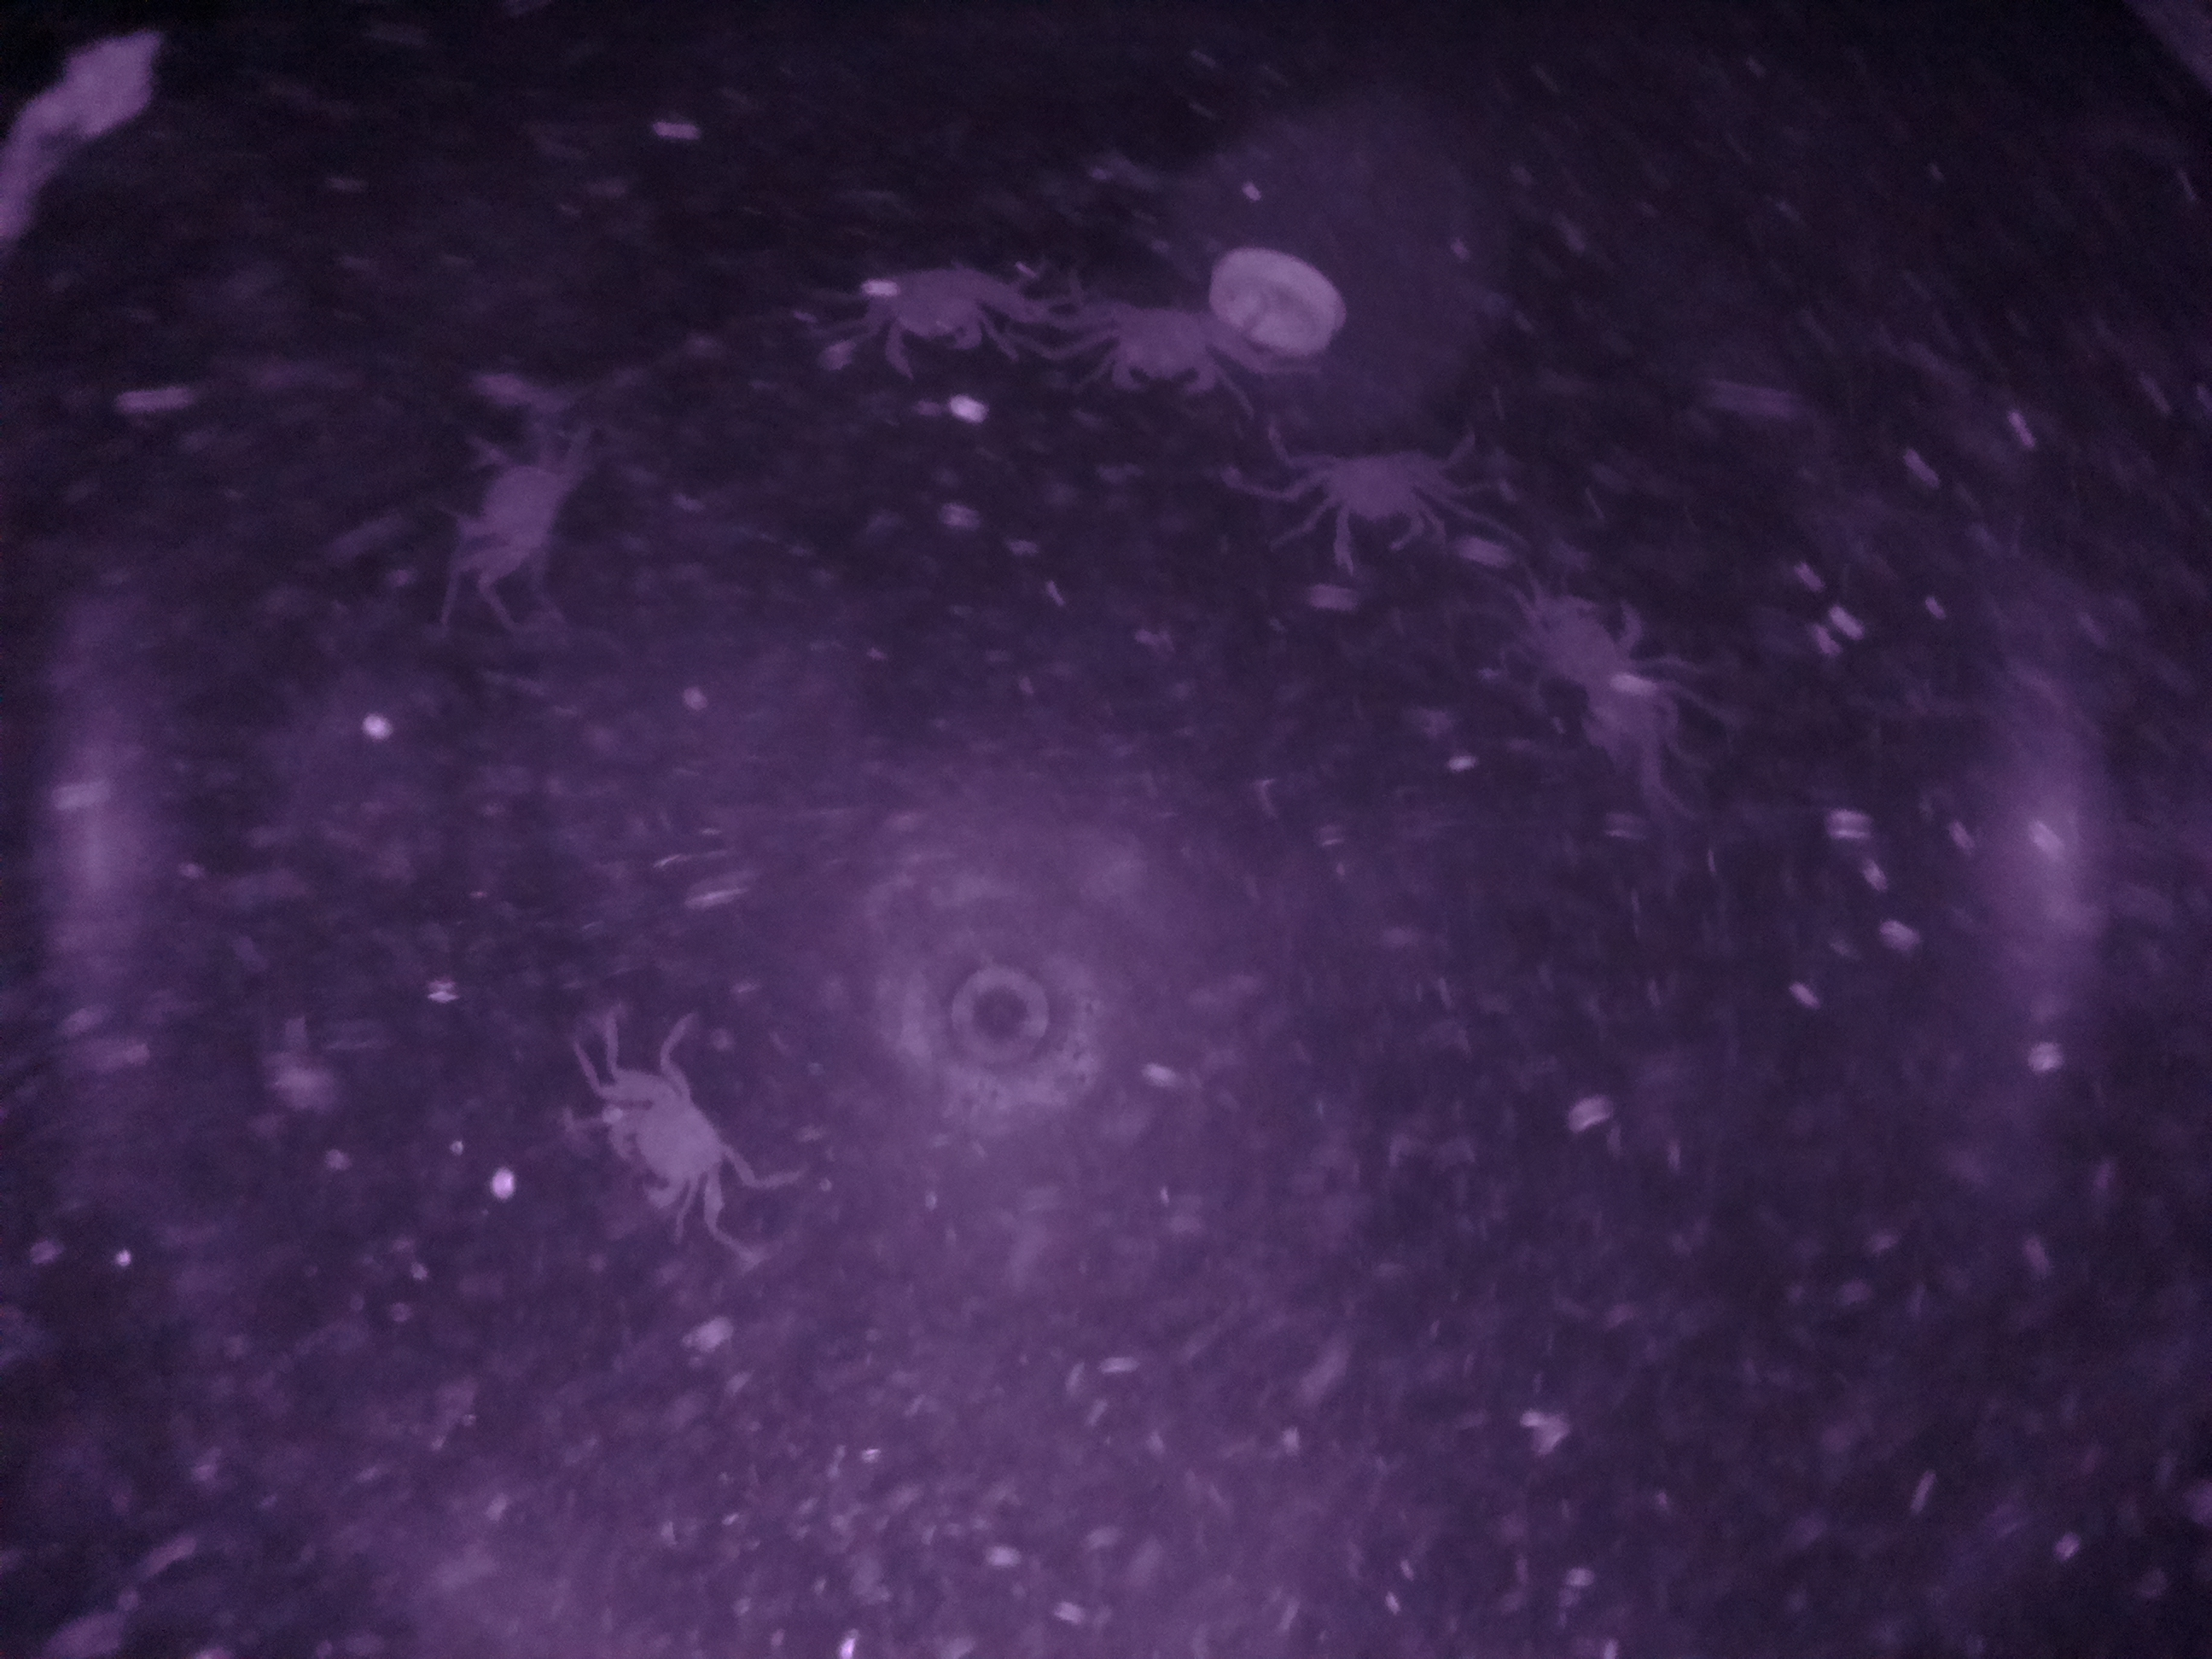Crab: (559, 995, 773, 1248), (1252, 403, 1519, 575), (1045, 268, 1278, 413)
